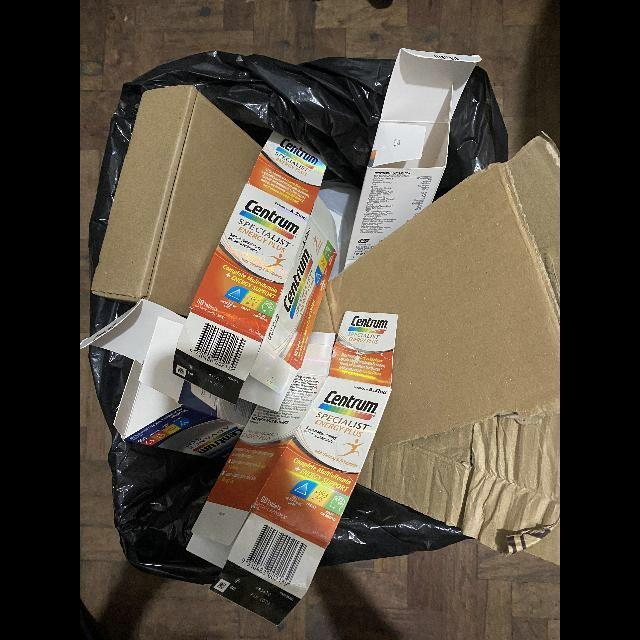cardboard: (313, 132, 560, 450), (186, 311, 398, 625), (173, 131, 343, 413), (91, 85, 261, 318), (357, 414, 560, 567), (344, 48, 482, 269), (80, 299, 257, 463)
